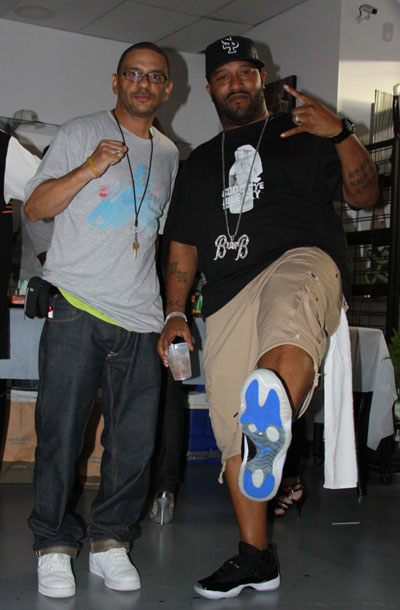Person: (165, 50, 359, 595), (37, 44, 172, 589)
